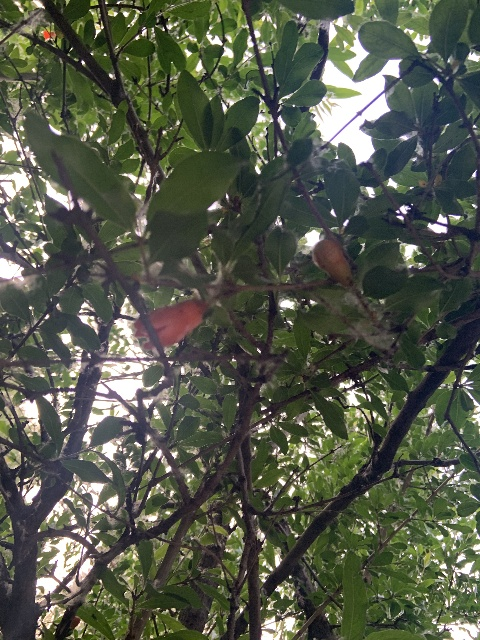bud: (312, 237, 352, 286)
flower: (132, 296, 207, 349), (42, 29, 53, 39)
